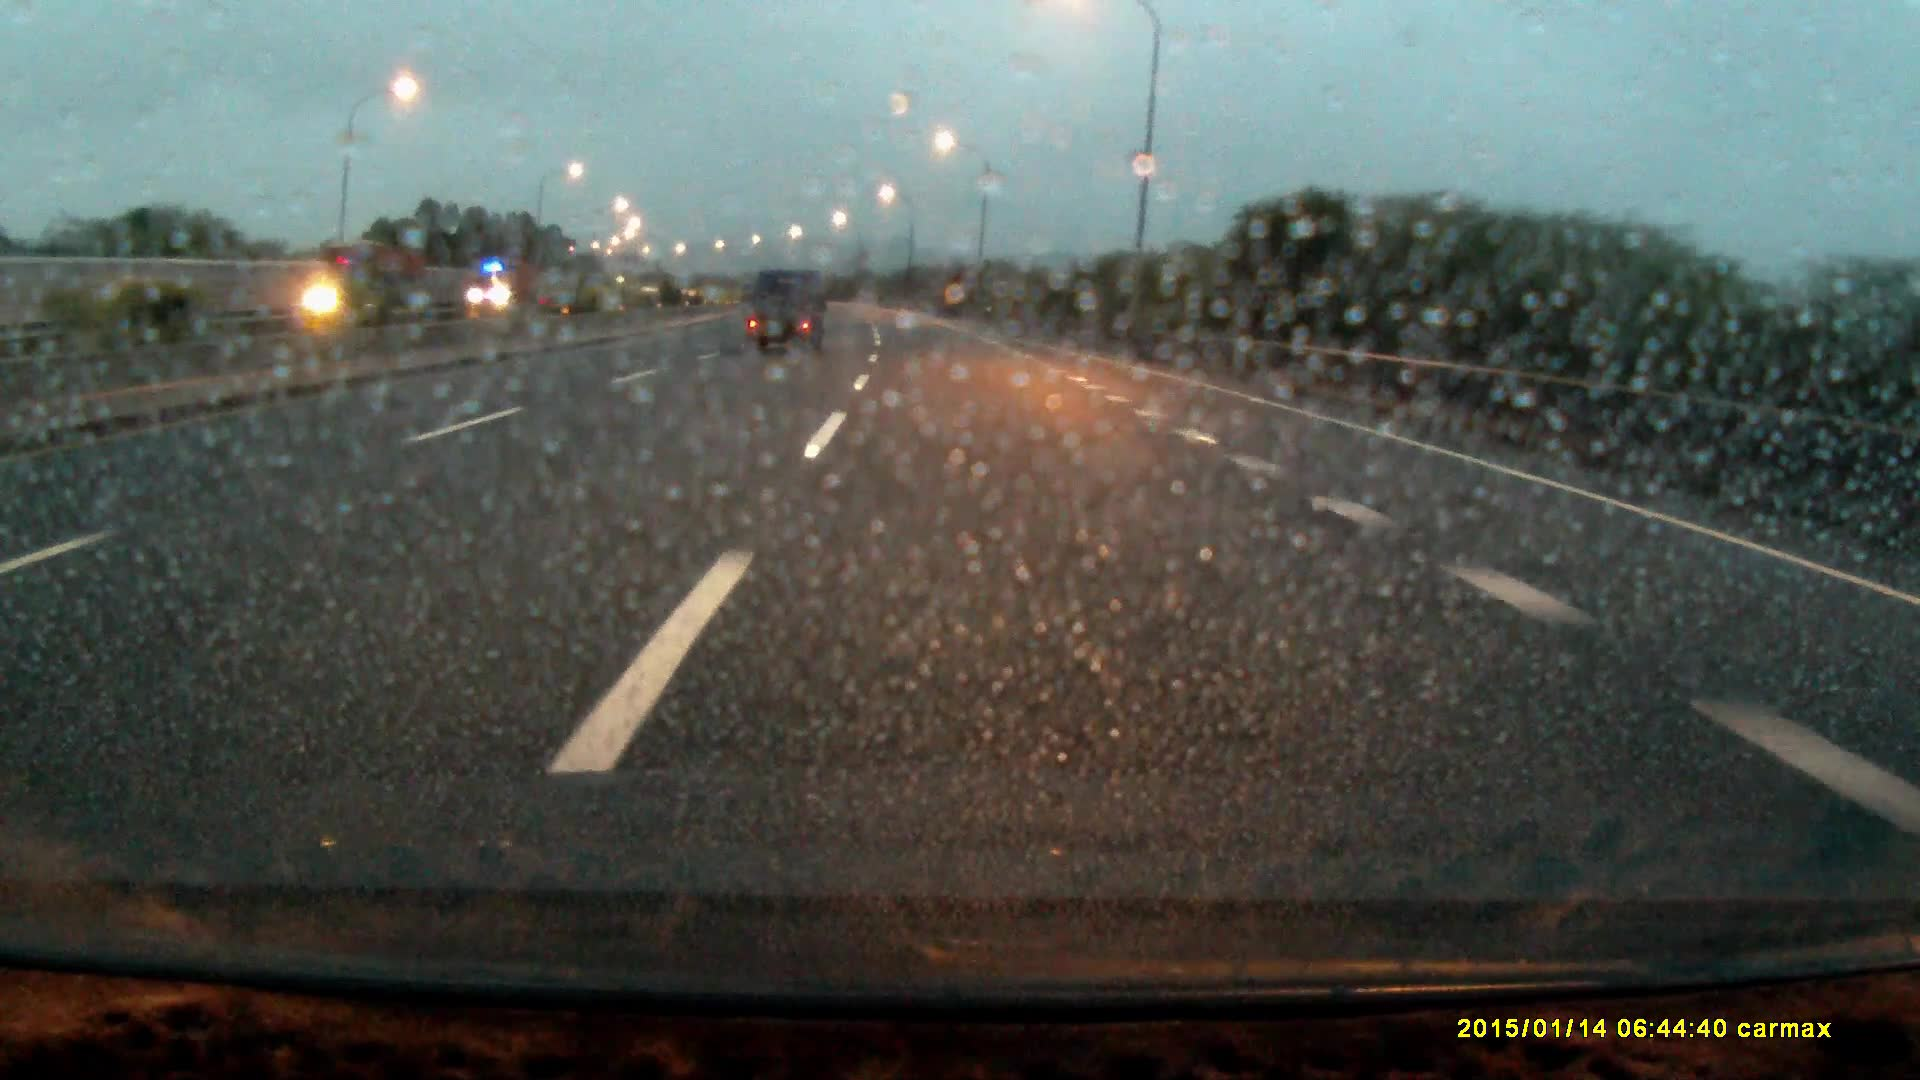vehicle: (301, 248, 433, 326), (742, 270, 823, 360), (465, 261, 543, 316)
